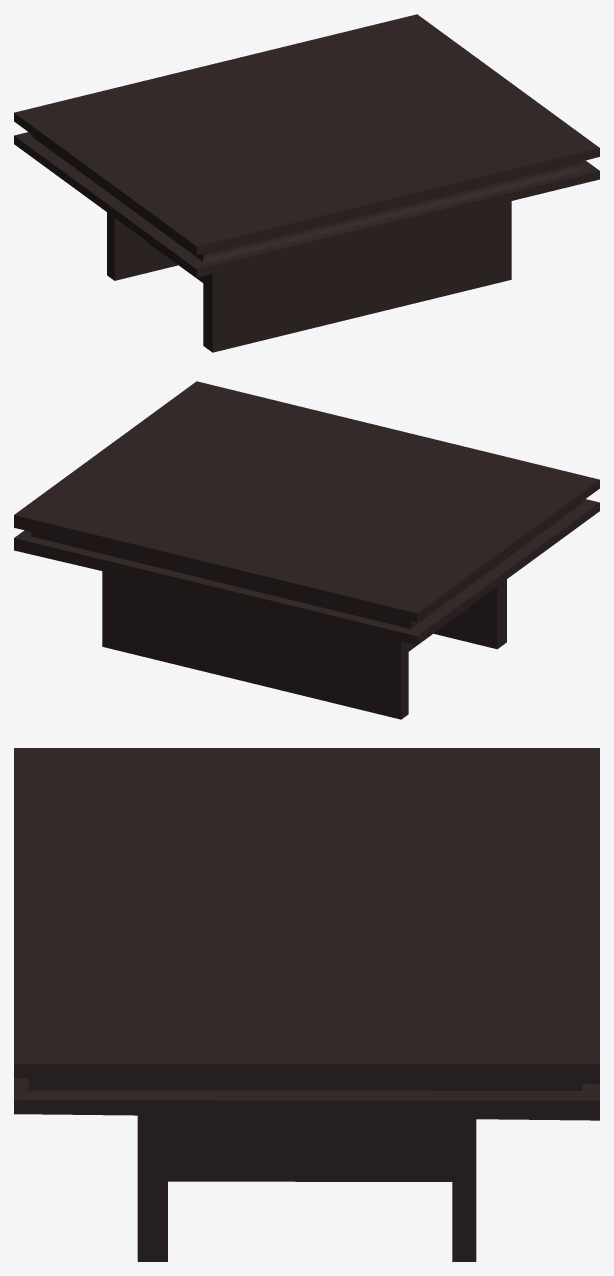
File: coffee_table.fbx
The picture shows the model from 3 angles, top to bottom: view 1: azimuth 30°, elevation 25°; view 2: azimuth 150°, elevation 25°; view 3: azimuth 270°, elevation 25°; orthographic projection. The views are drawn at different scales.
Parts seen in each view (by area): view 1: caffee_table; view 2: caffee_table; view 3: caffee_table.
Part boxes in pixels (x1,y1,x2,y2): caffee_table: (14, 14, 599, 352); caffee_table: (14, 381, 599, 719); caffee_table: (14, 748, 599, 1261).
Bounding box in the file's own units: 186 × 65.22 × 146.
